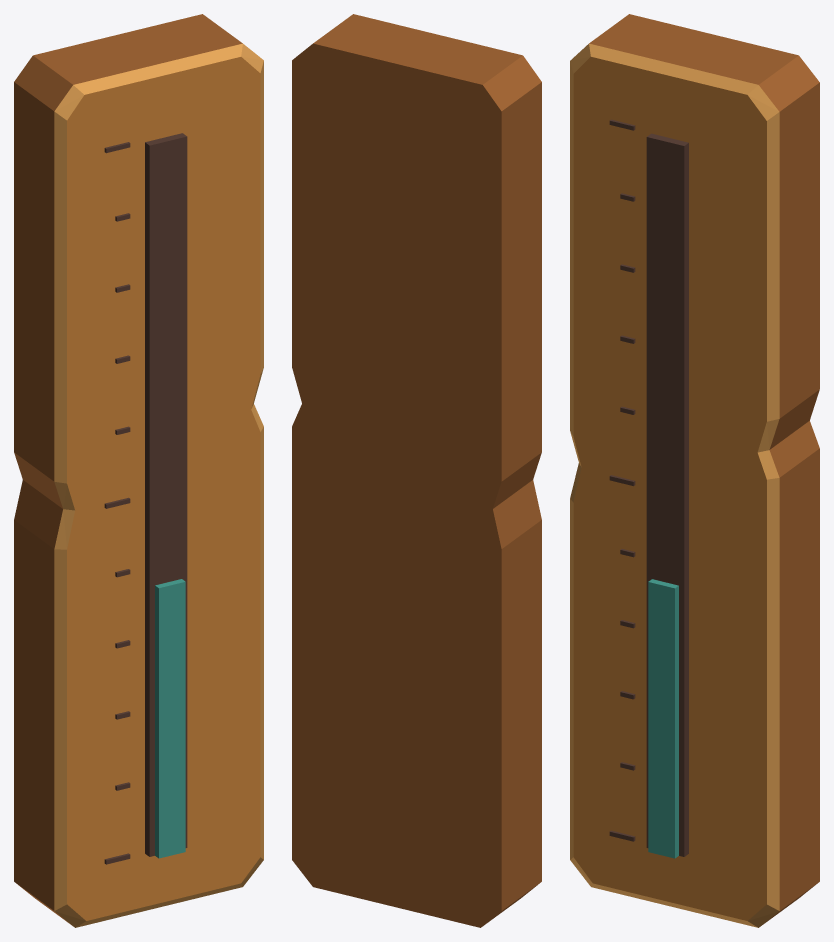
File: Progress_V.fbx
3 views of the same model, side by side, from view 1: azimuth 30°, elevation 25°; view 2: azimuth 150°, elevation 25°; view 3: azimuth 330°, elevation 25° (orthographic).
Visible parts, largest first — view 1: Stone, Rail, Fill; view 2: Stone; view 3: Stone, Rail, Fill.
Boxes of the visible parts, x1,y1,x2,y2 form: Stone: (14,14,263,927); Rail: (145,133,187,856); Fill: (155,579,185,858); Stone: (292,14,541,927); Stone: (570,14,819,927); Rail: (646,133,688,856); Fill: (648,579,678,858).
Size of the model in its own units: 0.078 by 0.3 by 0.0345.
